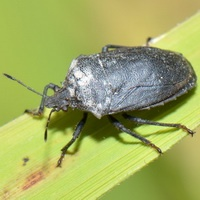insect: (0, 108, 158, 199), (130, 44, 199, 128), (115, 114, 186, 150)
